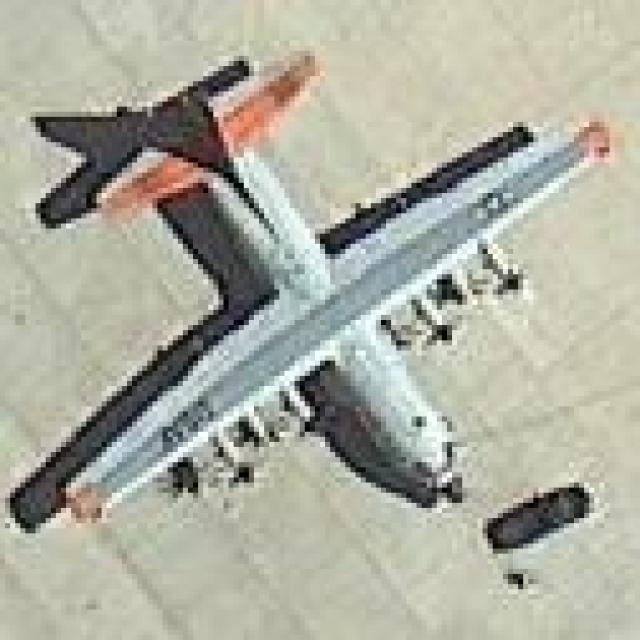C-130_TopDown: (12, 53, 615, 539)
